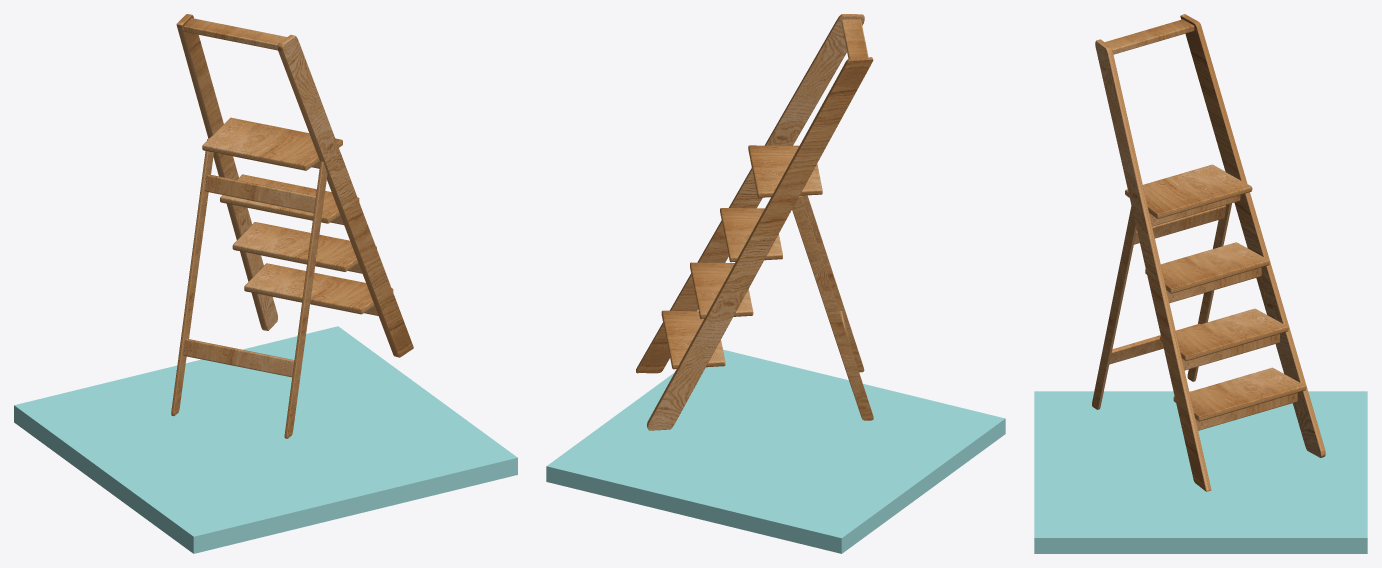
The model's file is escaleras.DAE.
The picture shows the model from 3 angles, left to right: view 1: azimuth 30°, elevation 25°; view 2: azimuth 150°, elevation 25°; view 3: azimuth 270°, elevation 25°; orthographic projection. The views are drawn at different scales.
Parts seen in each view (by area): view 1: Box001, Line203, Line207, ChamferBo0, ChamferBo3, ChamferBo5, Line205, Line206, ChamferBo1, ChamferBox, ChamferBo6, ChamferBo9; view 2: Box001, Line207, Line203, Line206, ChamferBo0, ChamferBo3, ChamferBo5, ChamferBo6, Line205, ChamferBo9; view 3: Box001, Line203, Line207, ChamferBo0, ChamferBo3, ChamferBo5, ChamferBo6, Line205, ChamferBo9, ChamferBox, ChamferBo2, ChamferBo4 (+4 smaller).
Part boxes in pixels (left/top/right/bottom): Box001: left=14, top=326, right=517, bottom=553; Line203: left=277, top=34, right=413, bottom=357; Line207: left=176, top=14, right=277, bottom=330; ChamferBo0: left=202, top=117, right=342, bottom=170; ChamferBo3: left=244, top=263, right=393, bottom=314; ChamferBo5: left=232, top=222, right=376, bottom=271; Line205: left=284, top=161, right=327, bottom=438; Line206: left=171, top=138, right=213, bottom=415; ChamferBo1: left=183, top=338, right=294, bottom=377; ChamferBox: left=205, top=174, right=315, bottom=212; ChamferBo6: left=220, top=174, right=359, bottom=223; ChamferBo9: left=183, top=18, right=286, bottom=50; Box001: left=546, top=349, right=1005, bottom=553; Line207: left=647, top=57, right=873, bottom=430; Line203: left=636, top=14, right=864, bottom=373; Line206: left=792, top=195, right=873, bottom=420; ChamferBo0: left=748, top=145, right=822, bottom=197; ChamferBo3: left=661, top=310, right=725, bottom=369; ChamferBo5: left=690, top=262, right=753, bottom=318; ChamferBo6: left=720, top=208, right=782, bottom=262; Line205: left=802, top=195, right=864, bottom=372; ChamferBo9: left=841, top=19, right=868, bottom=58; Box001: left=1034, top=391, right=1367, bottom=553; Line203: left=1095, top=39, right=1211, bottom=491; Line207: left=1180, top=14, right=1325, bottom=457; ChamferBo0: left=1125, top=164, right=1252, bottom=218; ChamferBo3: left=1173, top=367, right=1306, bottom=421; ChamferBo5: left=1160, top=308, right=1288, bottom=361; ChamferBo6: left=1145, top=242, right=1269, bottom=293; Line205: left=1092, top=206, right=1136, bottom=409; ChamferBo9: left=1104, top=19, right=1194, bottom=54; ChamferBox: left=1134, top=205, right=1226, bottom=244; ChamferBo2: left=1195, top=393, right=1297, bottom=430; ChamferBo4: left=1182, top=334, right=1279, bottom=370.
Size of the model in its own units: 132 by 127 by 177.
Materials: 2 (1 with a texture image).
